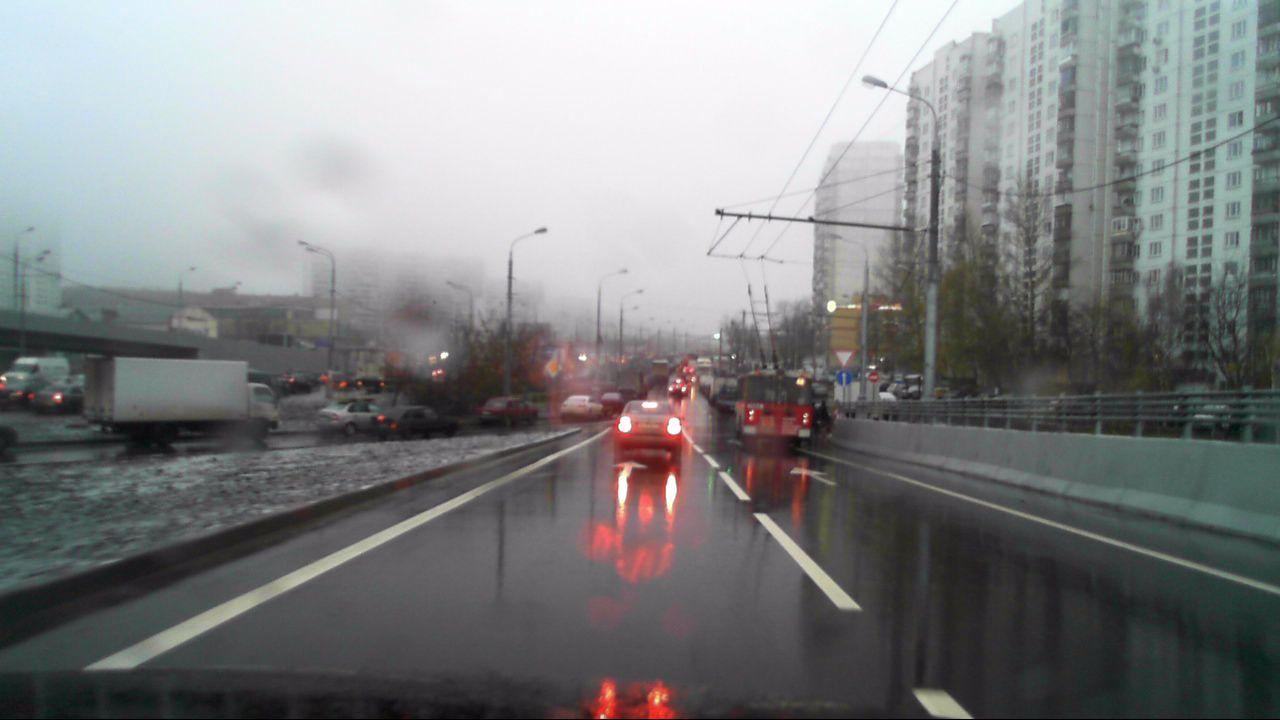road_sign: (833, 349, 857, 368), (836, 369, 853, 385)
